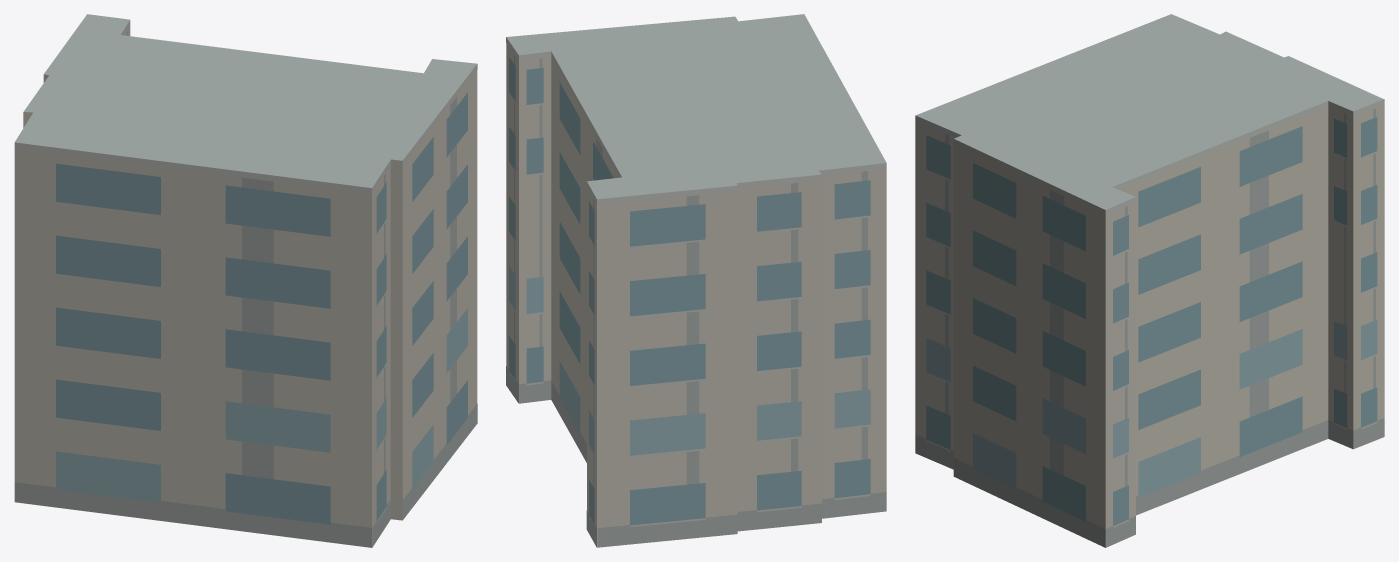
File: survey-upis-32622279.glb
3 renders of one model, left to right at view 1: azimuth 30°, elevation 25°; view 2: azimuth 150°, elevation 25°; view 3: azimuth 270°, elevation 25°, orthographic. The views are drawn at different scales.
Parts seen in each view (by area): view 1: survey-upis-32622279.tmp; view 2: survey-upis-32622279.tmp; view 3: survey-upis-32622279.tmp.
Part boxes in pixels (box(x1,y1,x2,y2)): survey-upis-32622279.tmp: box(14, 14, 477, 547); survey-upis-32622279.tmp: box(506, 14, 886, 547); survey-upis-32622279.tmp: box(915, 14, 1384, 547).
Size of the model in its own units: 17.93 by 14.4 by 18.13.
